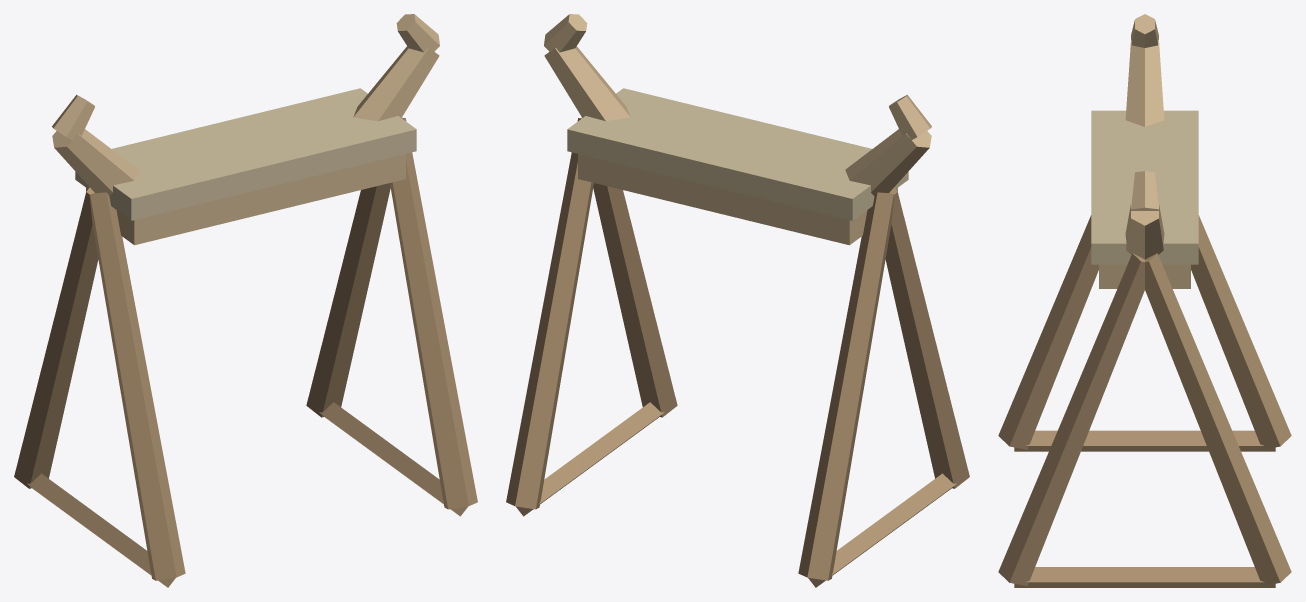
File: saddle_rack.glb
3 renders of one model, left to right at view 1: azimuth 30°, elevation 25°; view 2: azimuth 150°, elevation 25°; view 3: azimuth 270°, elevation 25°, orthographic. The views are drawn at different scales.
Parts seen in each view (by area): view 1: saddle_rack; view 2: saddle_rack; view 3: saddle_rack.
Part boxes in pixels (x1,y1,x2,y2): saddle_rack: (14,14,477,587); saddle_rack: (506,14,969,587); saddle_rack: (998,14,1291,587).
Bounding box in the file's own units: 1.11 × 1.23 × 0.7644.
